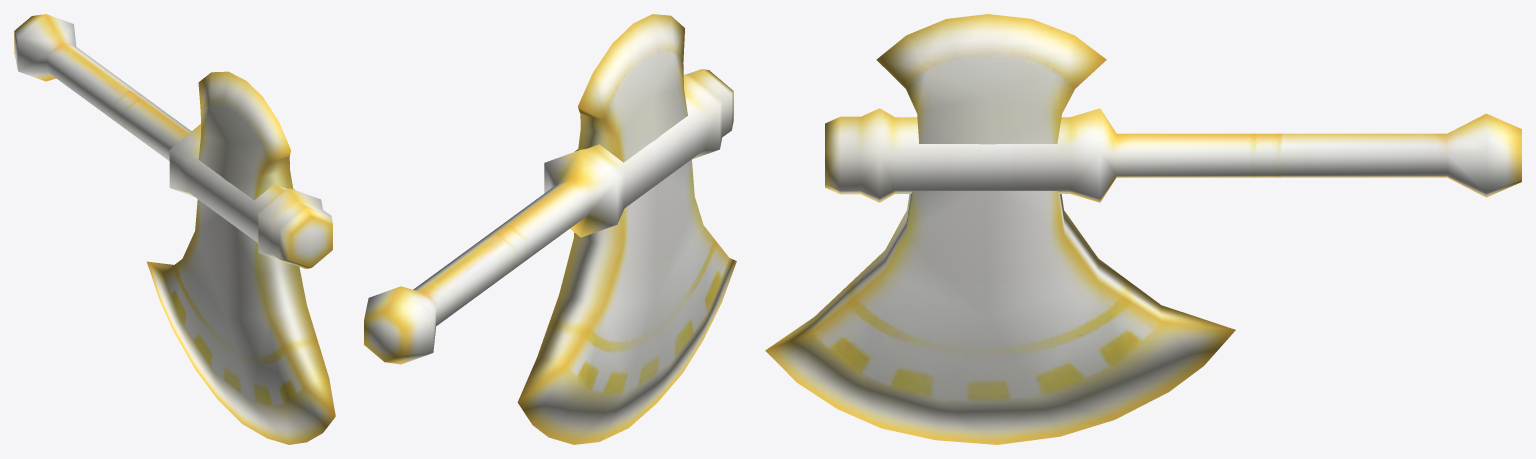
3 renders of one model, left to right at view 1: azimuth 30°, elevation 25°; view 2: azimuth 150°, elevation 25°; view 3: azimuth 270°, elevation 25°, orthographic. The views are drawn at different scales.
Parts seen in each view (by area): view 1: mAxe; view 2: mAxe; view 3: mAxe.
Part boxes in pixels (x1=…): mAxe: x1=14, y1=14, x2=335, y2=444; mAxe: x1=364, y1=14, x2=736, y2=444; mAxe: x1=765, y1=14, x2=1521, y2=444.
Bounding box in the file's own units: 0.0724 × 0.3812 × 0.6066.
